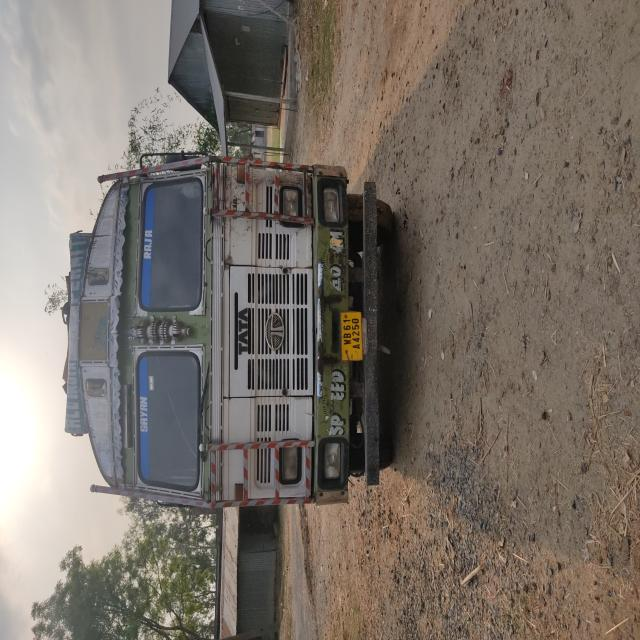Truck: (95, 85, 371, 512)
